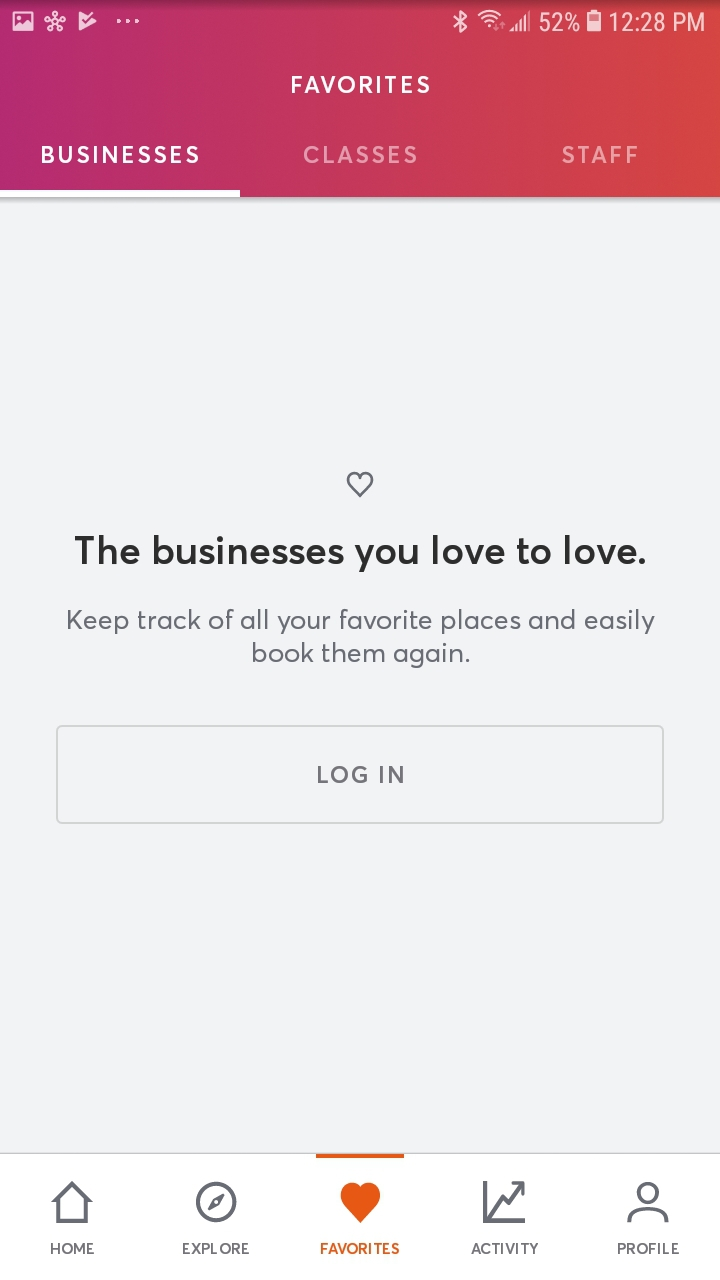Icon: (51, 1181, 94, 1224), (483, 1180, 526, 1223), (626, 1181, 669, 1223), (196, 1181, 238, 1223), (341, 1182, 381, 1224), (346, 471, 373, 497)
Text: (68, 609, 656, 670), (76, 535, 646, 574), (42, 146, 200, 165), (292, 76, 431, 95), (304, 146, 417, 165), (561, 146, 637, 165), (321, 1242, 400, 1255), (183, 1242, 250, 1255), (471, 1243, 539, 1255), (618, 1242, 680, 1255), (51, 1242, 95, 1255)
TextButton: (56, 725, 664, 825)
UpperTaskBar: (1, 1, 720, 36)
